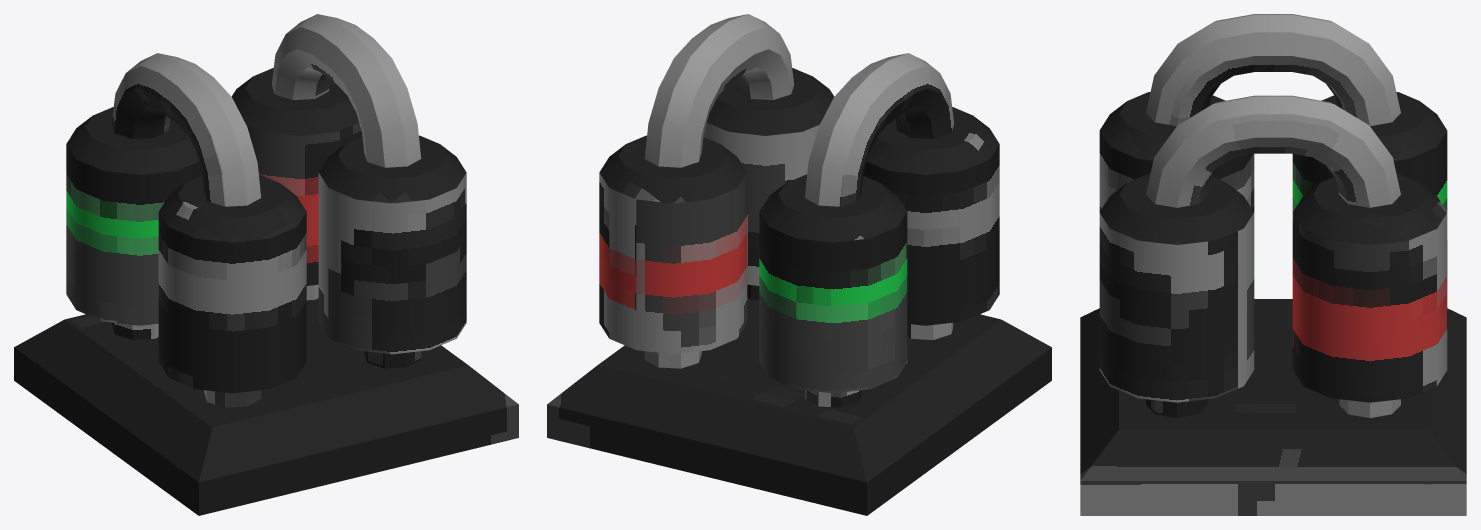
The model's file is WallA.glb.
The picture shows the model from 3 angles, left to right: view 1: azimuth 30°, elevation 25°; view 2: azimuth 150°, elevation 25°; view 3: azimuth 270°, elevation 25°; orthographic projection. The views are drawn at different scales.
Parts seen in each view (by area): view 1: WallA; view 2: WallA; view 3: WallA.
Boxes of the visible parts, left/top/right/bottom form: WallA: left=14, top=14, right=518, bottom=515; WallA: left=547, top=14, right=1051, bottom=515; WallA: left=1080, top=14, right=1466, bottom=515.
Size of the model in its own units: 1 by 1.08 by 1.
1 material, 1 textured.
